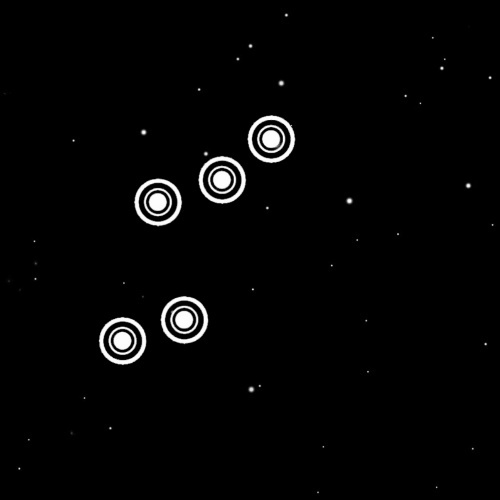lyra: (88, 92, 310, 374)
